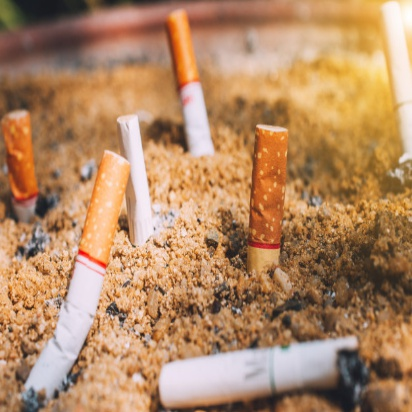cigarette: (32, 149, 123, 401), (151, 347, 370, 406), (163, 6, 222, 162), (245, 117, 296, 281), (113, 110, 161, 246), (380, 1, 410, 173), (4, 106, 43, 215)
